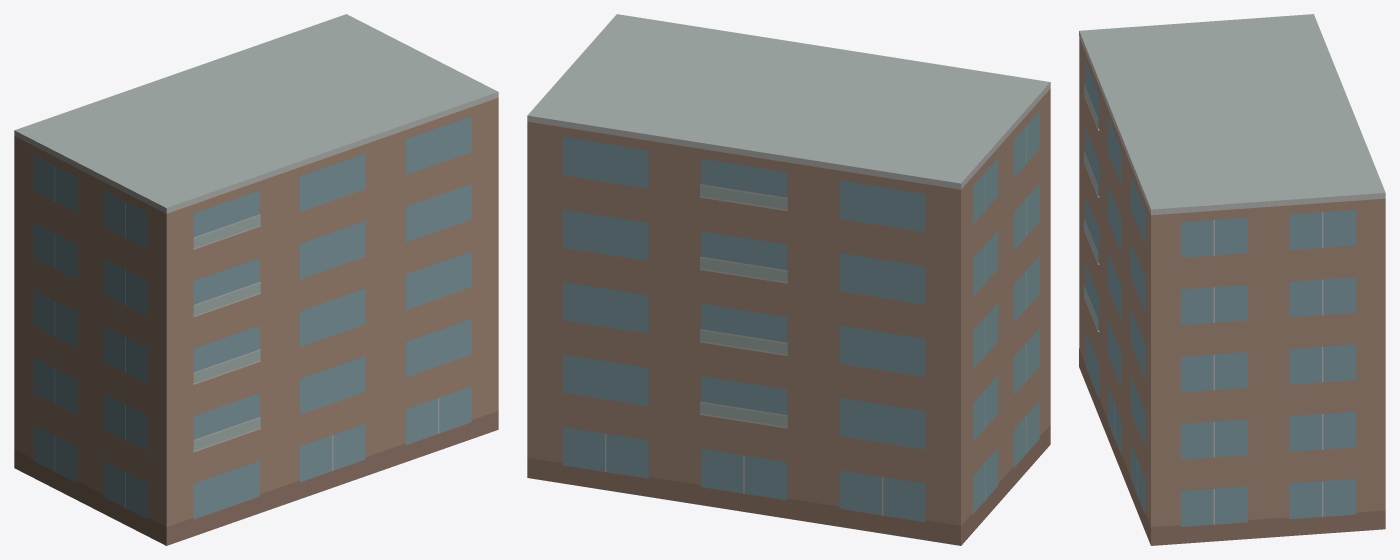
The model's file is survey-upis-32746690.glb.
3 views of the same model, side by side, from view 1: azimuth 30°, elevation 25°; view 2: azimuth 150°, elevation 25°; view 3: azimuth 270°, elevation 25° (orthographic). The views are drawn at different scales.
Parts seen in each view (by area): view 1: survey-upis-32746690.tmp; view 2: survey-upis-32746690.tmp; view 3: survey-upis-32746690.tmp.
Part boxes in pixels (bbox=[...]): survey-upis-32746690.tmp: bbox=[14, 14, 498, 545]; survey-upis-32746690.tmp: bbox=[527, 14, 1050, 545]; survey-upis-32746690.tmp: bbox=[1079, 14, 1385, 545].
Size of the model in its own units: 18.1 by 14.5 by 11.99.
